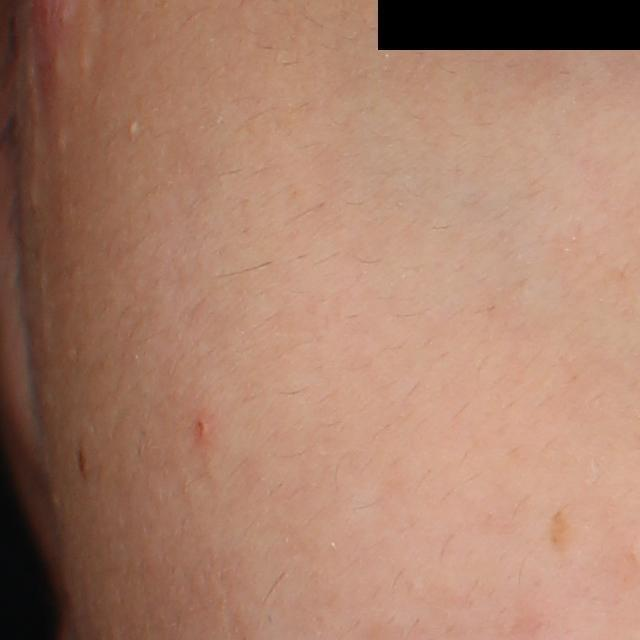melasma: (544, 506, 573, 562)
nevus: (73, 437, 90, 481)
papule: (196, 415, 211, 439)
